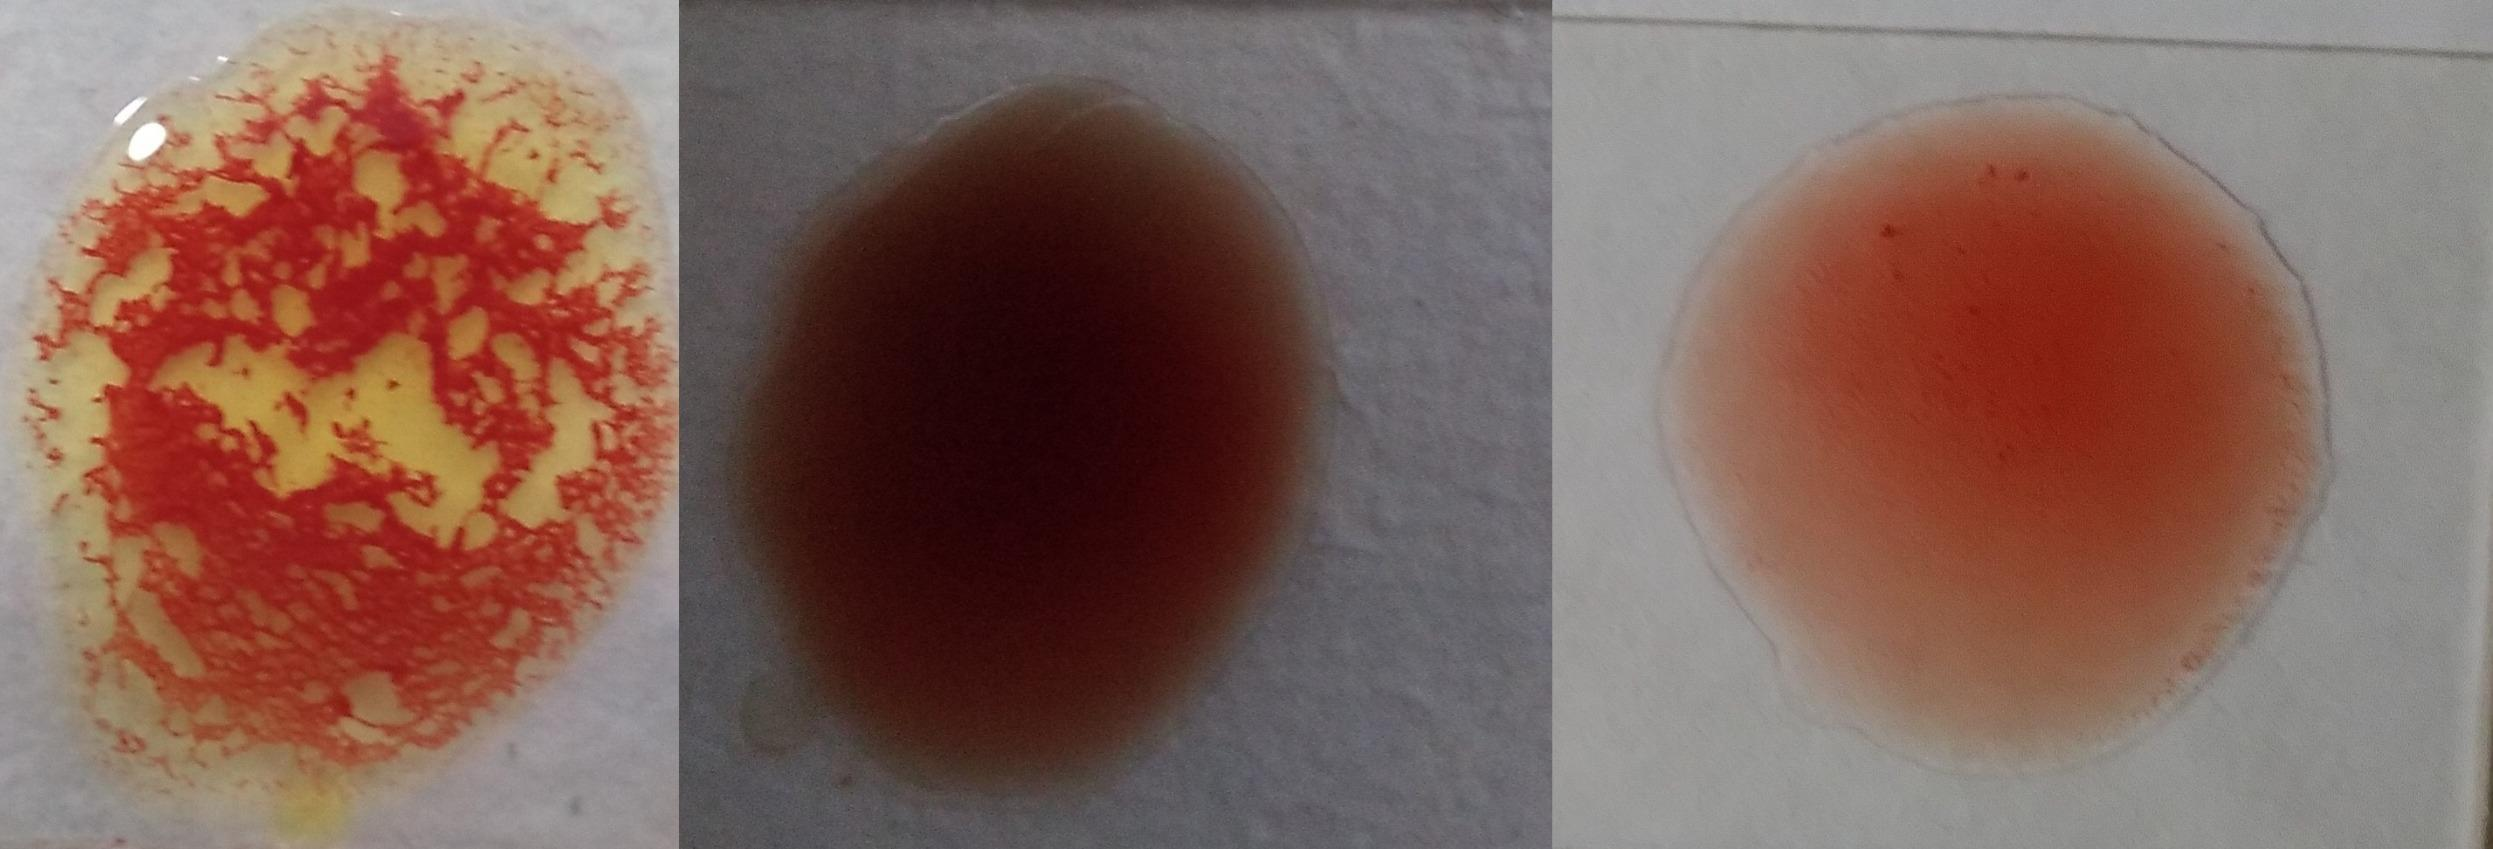B: (38, 11, 665, 800)
